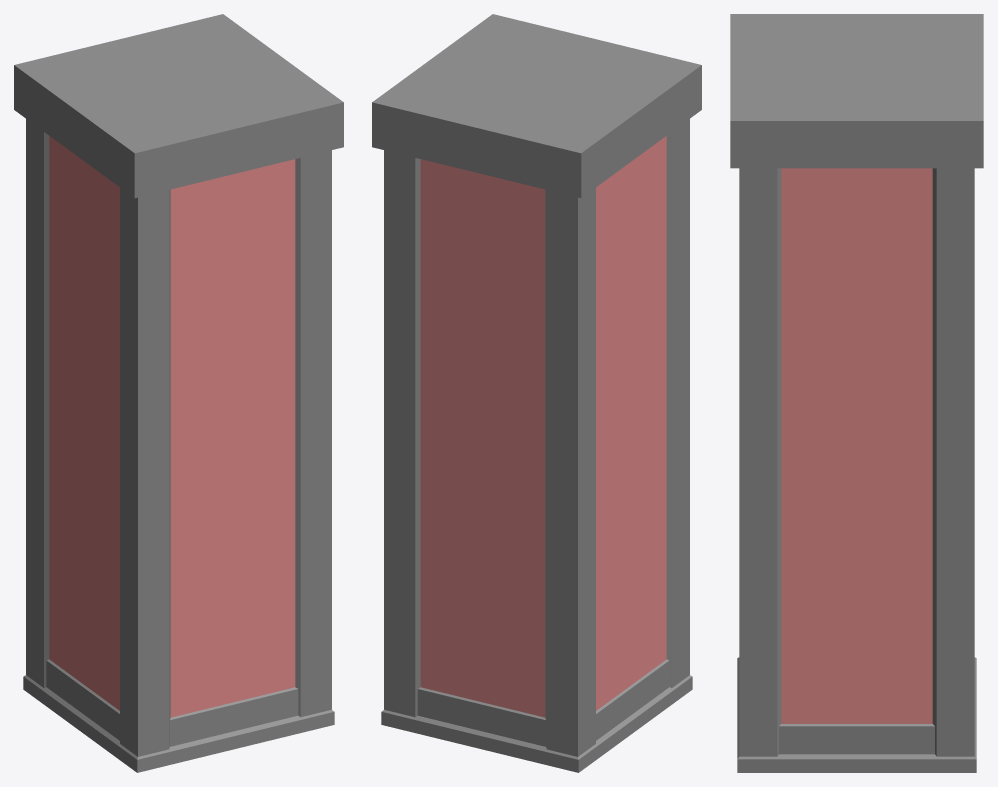
The model's file is S_Envi_Common_Pillar_01a.gltf.
3 views of the same model, side by side, from view 1: azimuth 30°, elevation 25°; view 2: azimuth 150°, elevation 25°; view 3: azimuth 270°, elevation 25° (orthographic). The views are drawn at different scales.
Visible parts, largest first — view 1: S_Envi_Common_Pillar_01a; view 2: S_Envi_Common_Pillar_01a; view 3: S_Envi_Common_Pillar_01a.
Part boxes in pixels (x1=…): S_Envi_Common_Pillar_01a: x1=14, y1=14, x2=343, y2=772; S_Envi_Common_Pillar_01a: x1=372, y1=14, x2=701, y2=772; S_Envi_Common_Pillar_01a: x1=730, y1=14, x2=983, y2=772.
Bounding box in the file's own units: 1.58 × 4.5 × 1.58.
